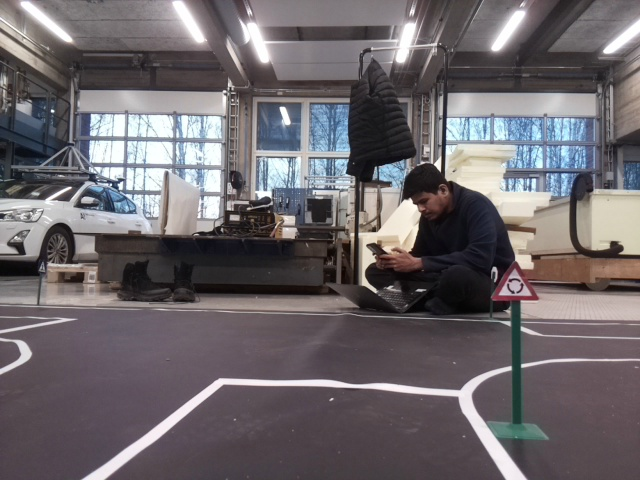Roundabout: (488, 263, 540, 298)
